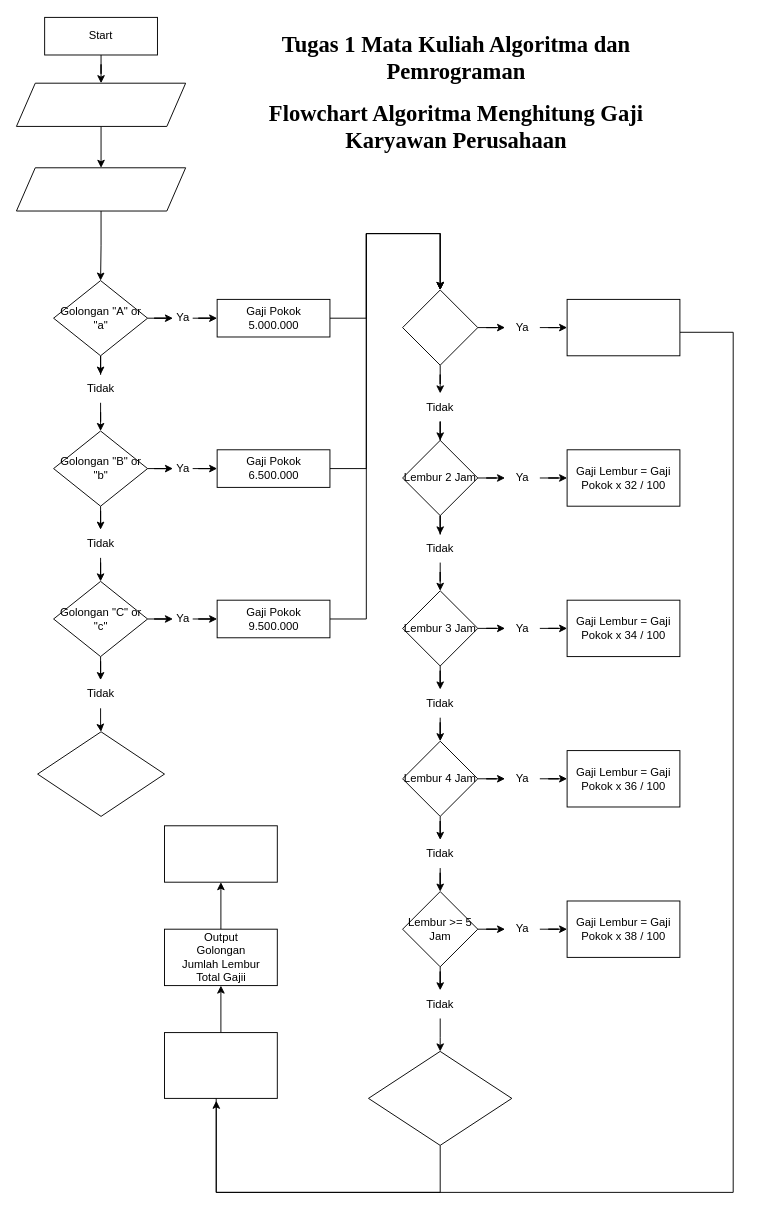
Image size: 758x1216. Some labels were removed from this diagram. The shapes that lost their labels are listed below. From the top down, each one's centre as x and y in pixels, then its label:
pixel 101 104: Input Golongan Karyawan
pixel 101 189: Input Jumlah Jam Lembur
pixel 440 327: Lembur 1 Jam
pixel 623 327: Gaji Lembur = Gaji Pokok x 30 / 100
pixel 100 773: Golongan Invalid => EXIT
pixel 220 853: End
pixel 220 1065: Total Penghasilan = Gaji Pokok + Gaji Lembur
pixel 440 1097: Lembur =0 Output = Karyawan tidak lembur
